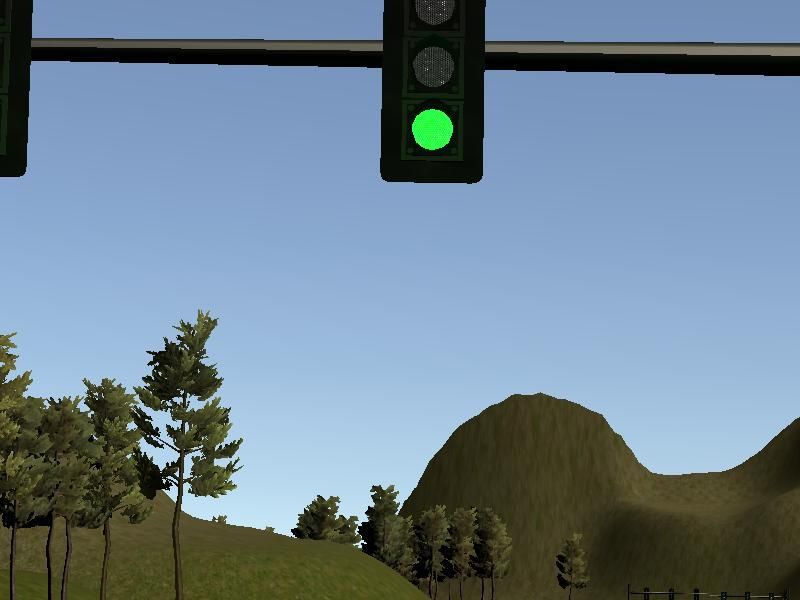Green: (385, 2, 478, 183)
